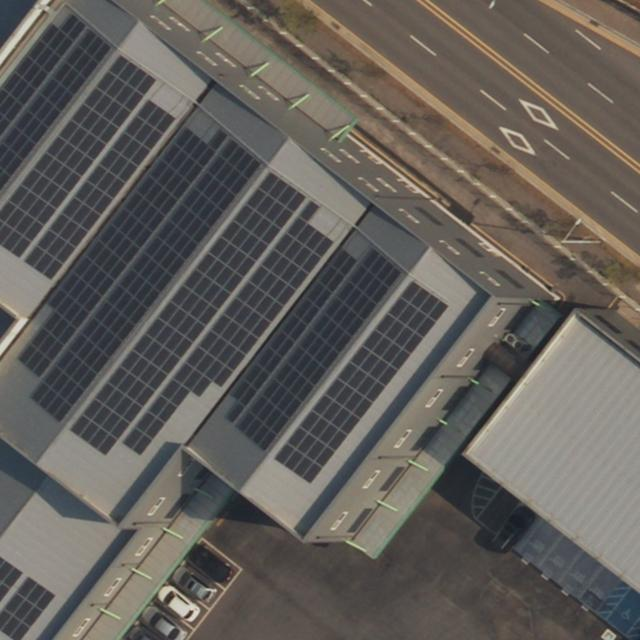panel: (67, 170, 313, 457), (27, 137, 265, 423), (121, 199, 350, 456), (15, 117, 231, 375), (270, 280, 450, 485), (231, 246, 408, 451), (1, 58, 157, 256), (27, 100, 176, 279), (221, 246, 356, 422), (1, 12, 113, 182)
